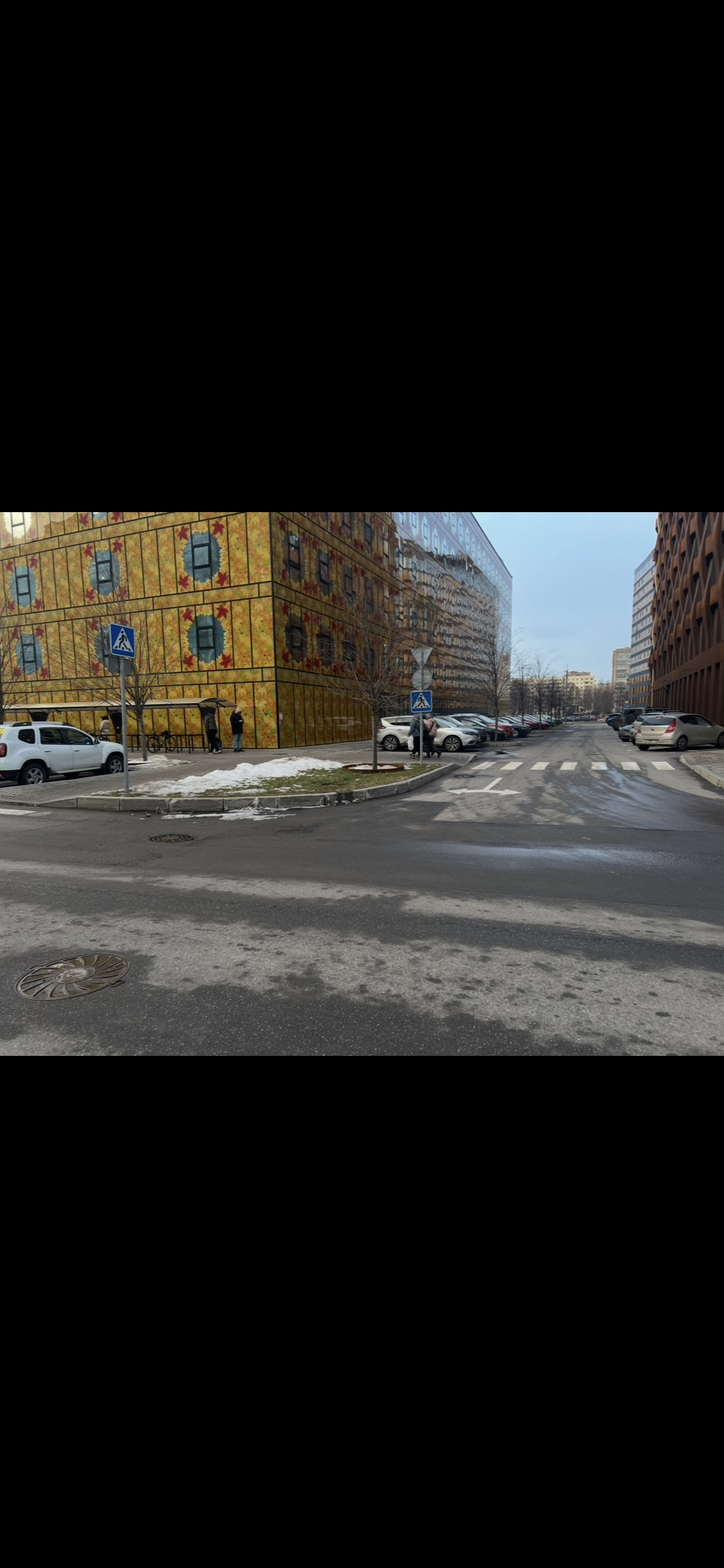road sign: (110, 623, 136, 658), (411, 691, 432, 712)
